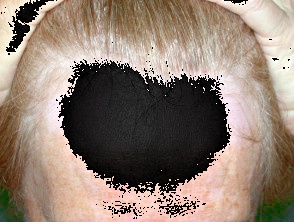vitiligo: (28, 41, 280, 183)
